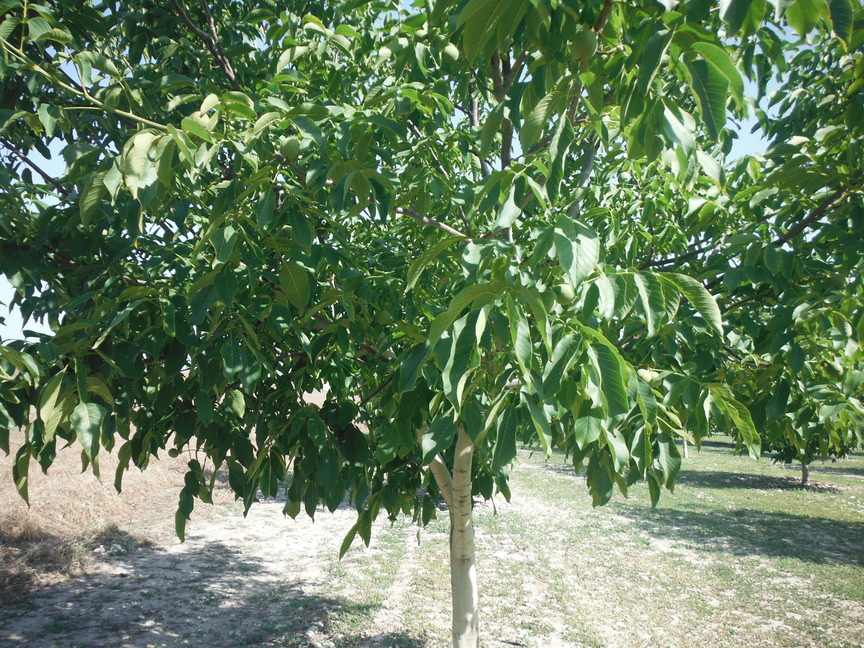walnut: (569, 27, 599, 65), (552, 281, 578, 308), (537, 286, 558, 314), (560, 17, 579, 46), (279, 136, 301, 161), (191, 108, 212, 129), (441, 45, 462, 65), (83, 319, 104, 337), (830, 272, 849, 290), (647, 368, 662, 390), (279, 222, 296, 241), (377, 307, 393, 327), (434, 33, 452, 50), (615, 169, 634, 185), (636, 366, 652, 385), (411, 28, 428, 44), (165, 446, 181, 459), (412, 215, 428, 228), (267, 427, 280, 441), (266, 417, 278, 430), (401, 491, 413, 503), (432, 29, 441, 41), (421, 38, 430, 46)
